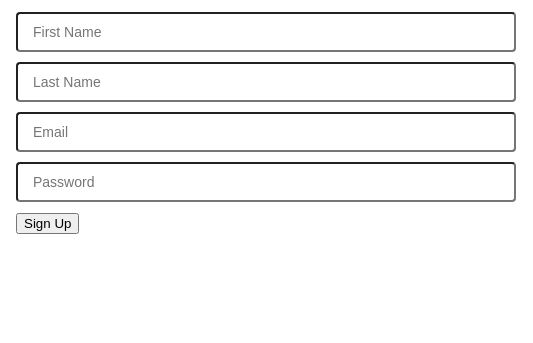
Test: SignUpForm component › shows password error message when last name exist in
Type "lname" into the field with placeholder "Last Name" at coordinates (266, 82), box [16,62,516,102]
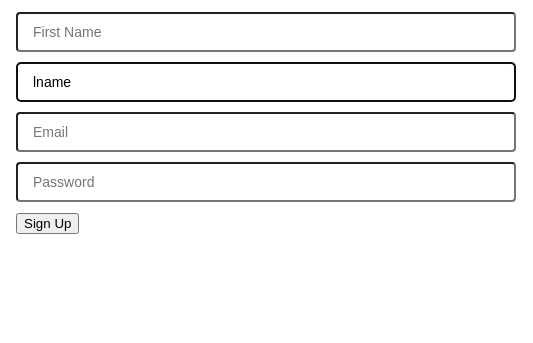
Type "lnameSDFGHJ" into the password field with test id "password" at coordinates (266, 182), box [16,162,516,202]
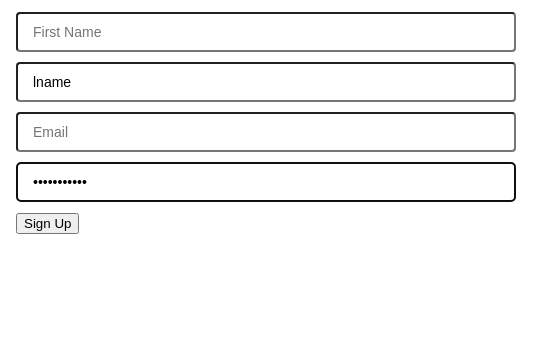
Click the button "Sign Up" at coordinates (48, 224), box [16,213,79,234]
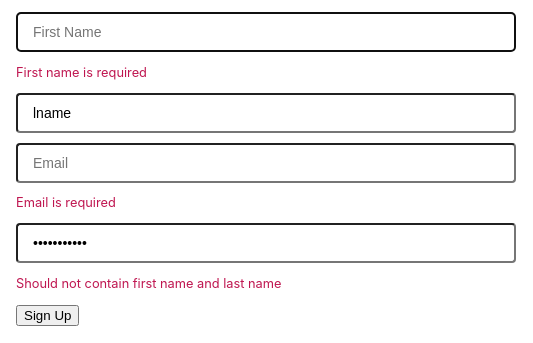
Expected: the text "Should not contain first name and last name" is shown, [16,276,282,291]
